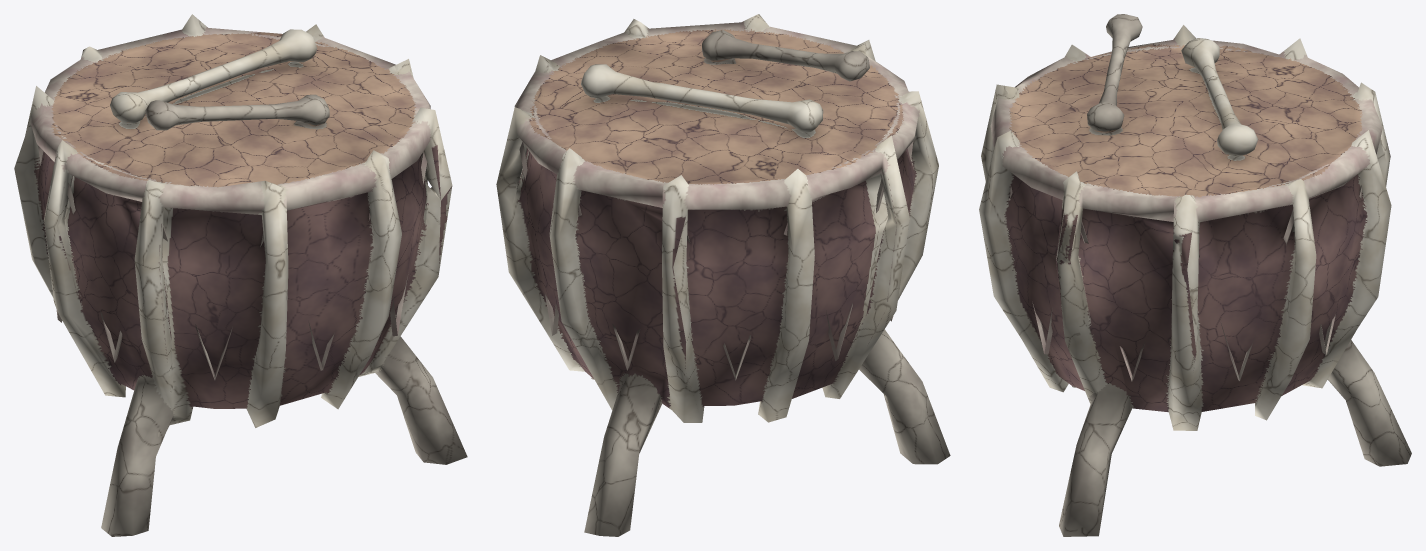
Rendered from tambor_guerra.fbx.
The picture shows the model from 3 angles, left to right: view 1: azimuth 30°, elevation 25°; view 2: azimuth 150°, elevation 25°; view 3: azimuth 270°, elevation 25°; orthographic projection. The views are drawn at different scales.
Parts seen in each view (by area): view 1: tambor; view 2: tambor; view 3: tambor.
Boxes of the visible parts, x1,y1,x2,y2 form: tambor: [14, 14, 467, 536]; tambor: [496, 14, 950, 536]; tambor: [979, 14, 1411, 536].
Bounding box in the file's own units: 3 × 3 × 3.01.
1 material, 1 textured.
